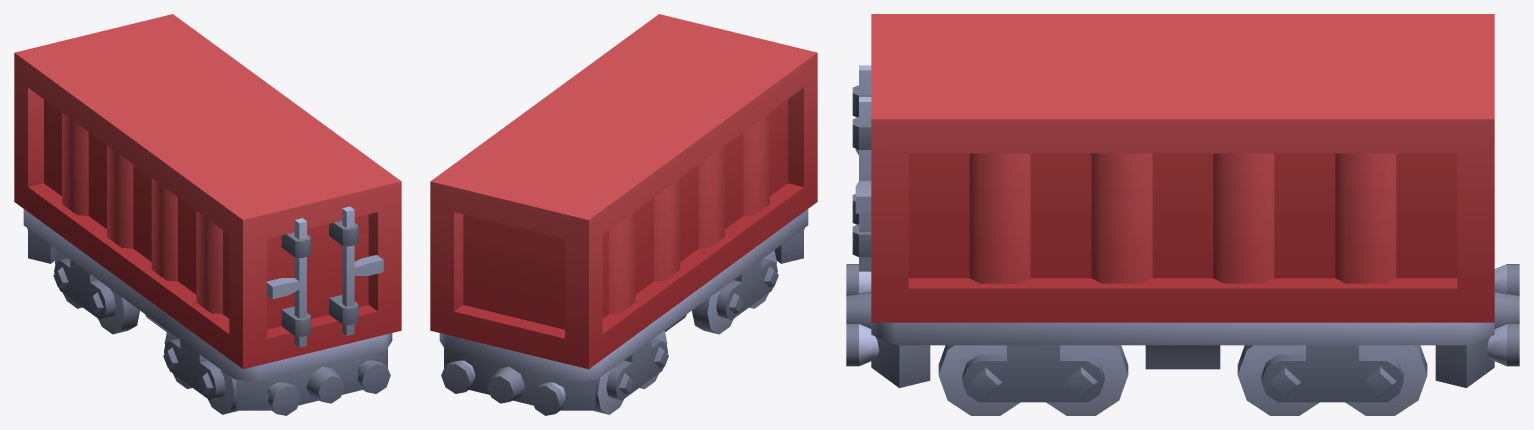
The model's file is k-train-train-carriage-container-red.glb.
3 views of the same model, side by side, from view 1: azimuth 30°, elevation 25°; view 2: azimuth 150°, elevation 25°; view 3: azimuth 270°, elevation 25° (orthographic). The views are drawn at different scales.
Parts seen in each view (by area): view 1: cargo, train-carriage-container-red, wheels-back, wheels-front; view 2: cargo, train-carriage-container-red, wheels-front, wheels-back; view 3: cargo, train-carriage-container-red, wheels-back, wheels-front.
Part boxes in pixels (x1,y1,x2,y2): cargo: [14, 14, 401, 369]; train-carriage-container-red: [23, 209, 392, 415]; wheels-back: [53, 250, 139, 334]; wheels-front: [163, 331, 238, 414]; cargo: [430, 14, 817, 369]; train-carriage-container-red: [439, 209, 808, 415]; wheels-front: [692, 250, 778, 334]; wheels-back: [593, 331, 668, 414]; cargo: [852, 14, 1494, 322]; train-carriage-container-red: [846, 264, 1519, 387]; wheels-back: [1237, 345, 1427, 415]; wheels-front: [938, 345, 1128, 415].
Size of the model in its own units: 1 by 1.36 by 2.7.
1 material, 1 textured.
